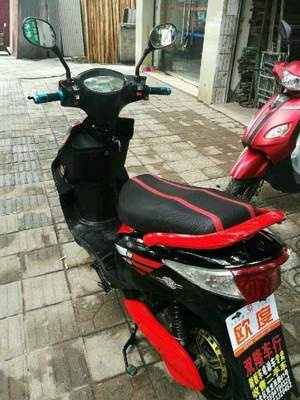non-vehicle: (16, 7, 292, 397), (226, 61, 300, 204)
